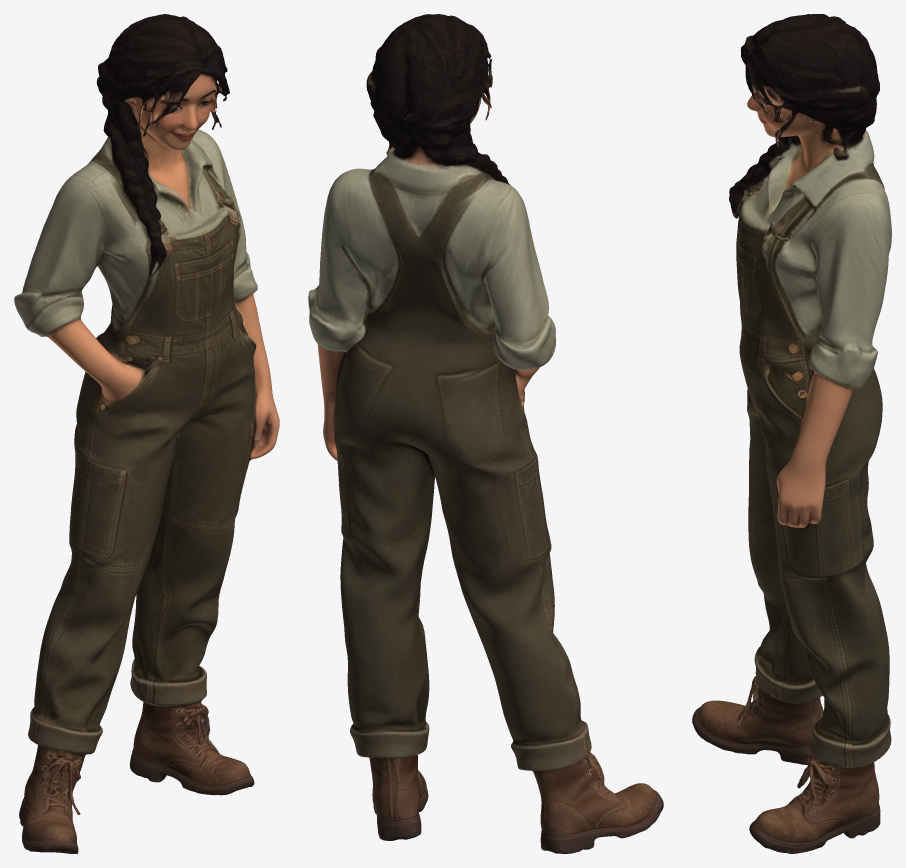
Rendered from farmer_base.glb.
The picture shows the model from 3 angles, left to right: view 1: azimuth 30°, elevation 25°; view 2: azimuth 150°, elevation 25°; view 3: azimuth 270°, elevation 25°; orthographic projection. The views are drawn at different scales.
Bounding box in the file's own units: 0.7202 × 1.9 × 0.4266.
Materials: 1 (1 with a texture image).
